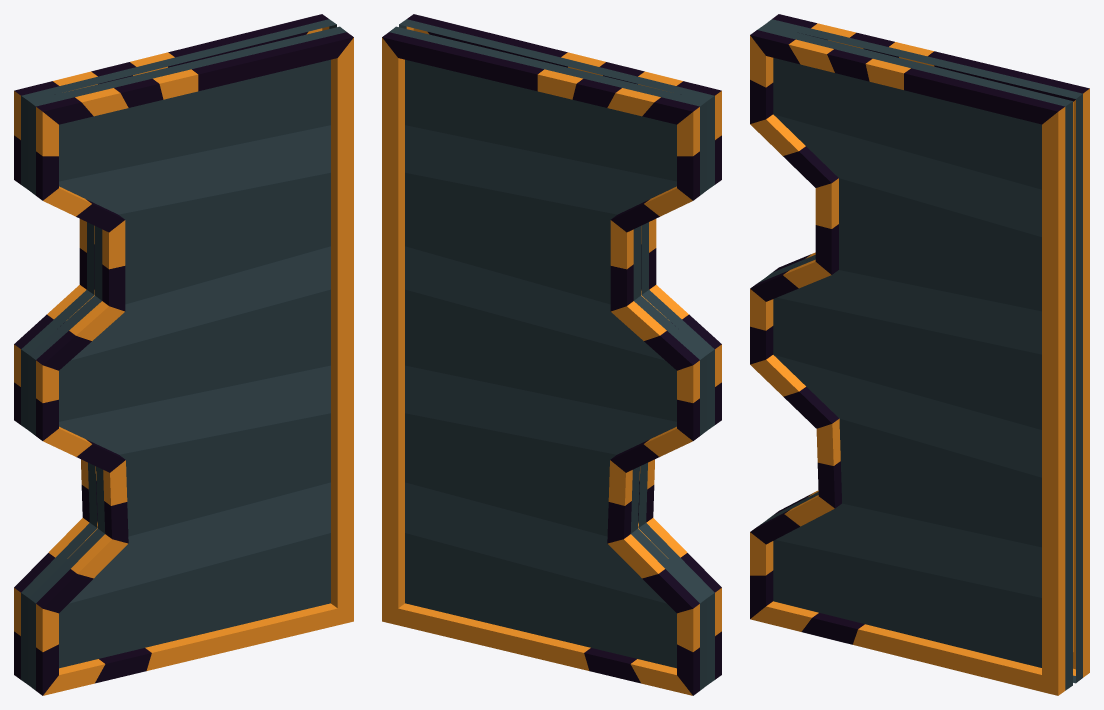
File: right_door.fbx
3 renders of one model, left to right at view 1: azimuth 30°, elevation 25°; view 2: azimuth 150°, elevation 25°; view 3: azimuth 330°, elevation 25°, orthographic.
Visible parts, largest first — view 1: right_door; view 2: right_door; view 3: right_door.
Boxes of the visible parts, x1=… form: right_door: x1=14, y1=14, x2=353, y2=695; right_door: x1=382, y1=14, x2=721, y2=695; right_door: x1=750, y1=14, x2=1089, y2=695.
Size of the model in its own units: 623 by 1121 by 111.
